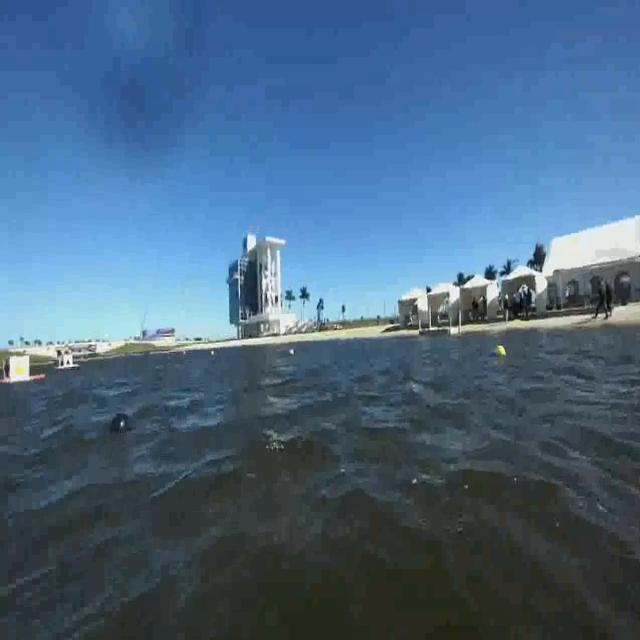black-buoy: (108, 412, 134, 443)
yellow-buoy: (496, 342, 506, 358)
